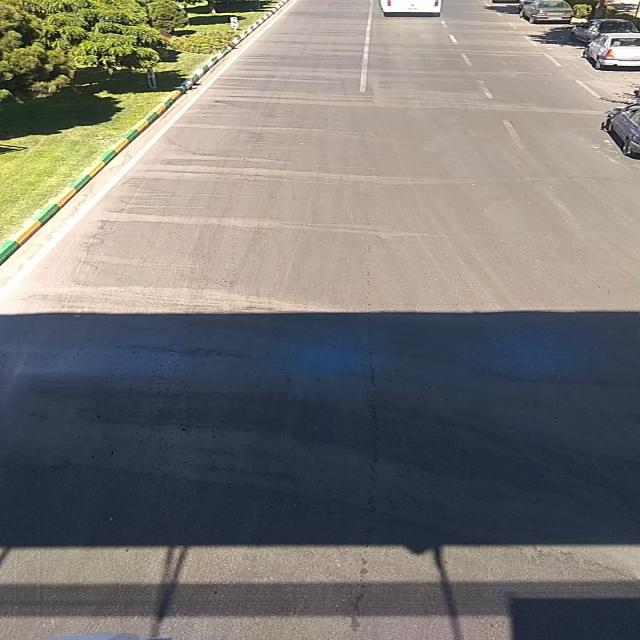car: (584, 34, 639, 68), (520, 1, 574, 23)
